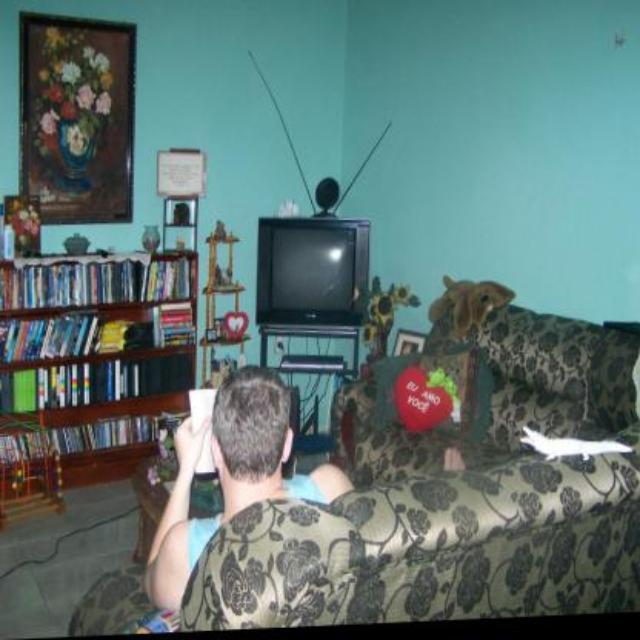Television: (260, 215, 368, 337)
